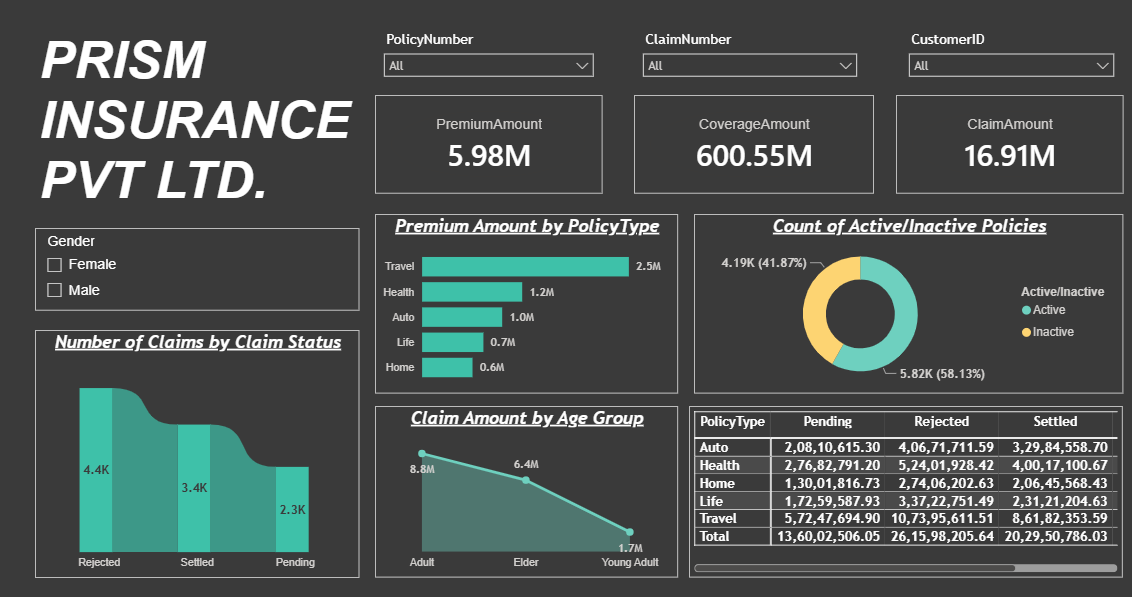

The page's visual inventory and layout, read from the dashboard file:
{"tool":"powerbi","page":{"name":"Insurance Data Analysis","canvas":[1280,720],"ordinal":0},"visuals":[{"type":"slicer","fields":{"Values":["InsuranceData.PolicyNumber"]},"box":[406.1,69.8,255.4,67.5],"z":0},{"type":"slicer","fields":{"Values":["InsuranceData.CustomerID"]},"box":[1000.1,69.8,250.9,67.5],"z":1000},{"type":"slicer","fields":{"Values":["InsuranceData.ClaimNumber"]},"box":[697.5,69.8,261,67.5],"z":2000},{"type":"textbox","box":[18,69.8,364.5,211.5],"z":3000},{"type":"cardVisual","fields":{"Data":["Sum(InsuranceData.PremiumAmount)"]},"box":[406.1,146.2,255.4,111.4],"z":4000},{"type":"cardVisual","fields":{"Data":["Sum(InsuranceData.CoverageAmount)"]},"box":[697.5,147.4,270,111.4],"z":5000},{"type":"cardVisual","fields":{"Data":["Sum(InsuranceData.ClaimAmount)"]},"box":[1000.1,146.2,255.4,111.4],"z":6000},{"type":"slicer","fields":{"Values":["InsuranceData.Gender"]},"box":[18,298.1,364.5,92.2],"z":7000},{"type":"ribbonChart","title":"Number of Claims by Claim Status","fields":{"Category":["InsuranceData.ClaimStatus"],"Y":["CountNonNull(InsuranceData.ClaimStatus)"]},"box":[18,411.8,364.5,277.9],"z":8000},{"type":"barChart","title":"Premium Amount by PolicyType","fields":{"Category":["InsuranceData.PolicyType"],"Y":["Sum(InsuranceData.PremiumAmount)"]},"box":[406.1,280.1,340.9,202.5],"z":9000},{"type":"lineChart","title":"Claim Amount by Age Group","fields":{"Category":["InsuranceData.Age Group"],"Y":["Sum(InsuranceData.ClaimAmount)"]},"box":[406.1,497.2,340.9,192.4],"z":10000},{"type":"donutChart","title":"Count of Active/Inactive Policies","fields":{"Category":["InsuranceData.Active/Inactive"],"Y":["CountNonNull(InsuranceData.Active/Inactive)"]},"box":[772.9,280.1,482.6,202.5],"z":11000},{"type":"pivotTable","fields":{"Values":["Sum(InsuranceData.CoverageAmount)"],"Rows":["InsuranceData.PolicyType"],"Columns":["InsuranceData.ClaimStatus"]},"box":[767.2,497.2,488.2,192.4],"z":12000}]}

Visuals, with their boxes on the page's 1280x720 design canvas (x1, y1, x2, y2). These are canvas units, not pixel positions in the 1132x597 screenshot, which may show the page scaled, cropped or inside an application window:
slicer - InsuranceData.PolicyNumber: bbox=(406, 70, 662, 137)
slicer - InsuranceData.CustomerID: bbox=(1000, 70, 1251, 137)
slicer - InsuranceData.ClaimNumber: bbox=(698, 70, 958, 137)
textbox: bbox=(18, 70, 382, 281)
cardVisual - Sum(InsuranceData.PremiumAmount): bbox=(406, 146, 662, 258)
cardVisual - Sum(InsuranceData.CoverageAmount): bbox=(698, 147, 968, 259)
cardVisual - Sum(InsuranceData.ClaimAmount): bbox=(1000, 146, 1256, 258)
slicer - InsuranceData.Gender: bbox=(18, 298, 382, 390)
"Number of Claims by Claim Status" ribbonChart: bbox=(18, 412, 382, 690)
"Premium Amount by PolicyType" barChart: bbox=(406, 280, 747, 483)
"Claim Amount by Age Group" lineChart: bbox=(406, 497, 747, 690)
"Count of Active/Inactive Policies" donutChart: bbox=(773, 280, 1256, 483)
pivotTable - Sum(InsuranceData.CoverageAmount) x InsuranceData.PolicyType: bbox=(767, 497, 1255, 690)
